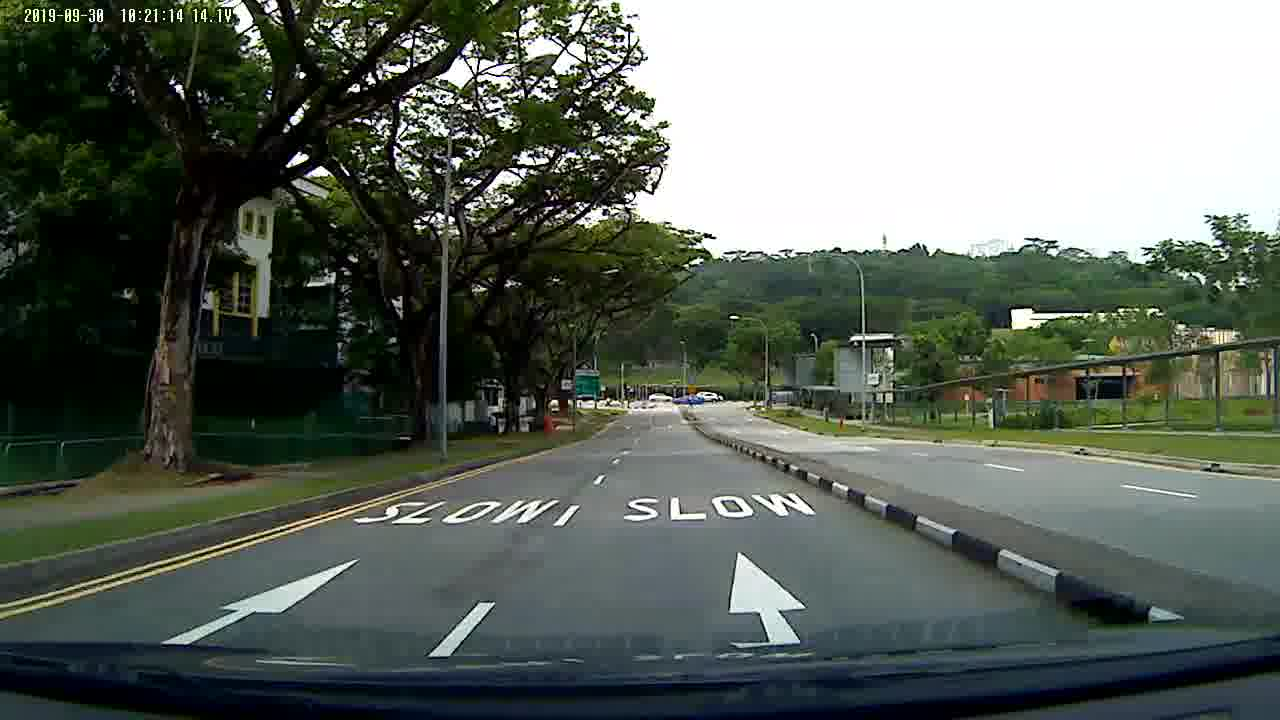car: (644, 391, 673, 407)
